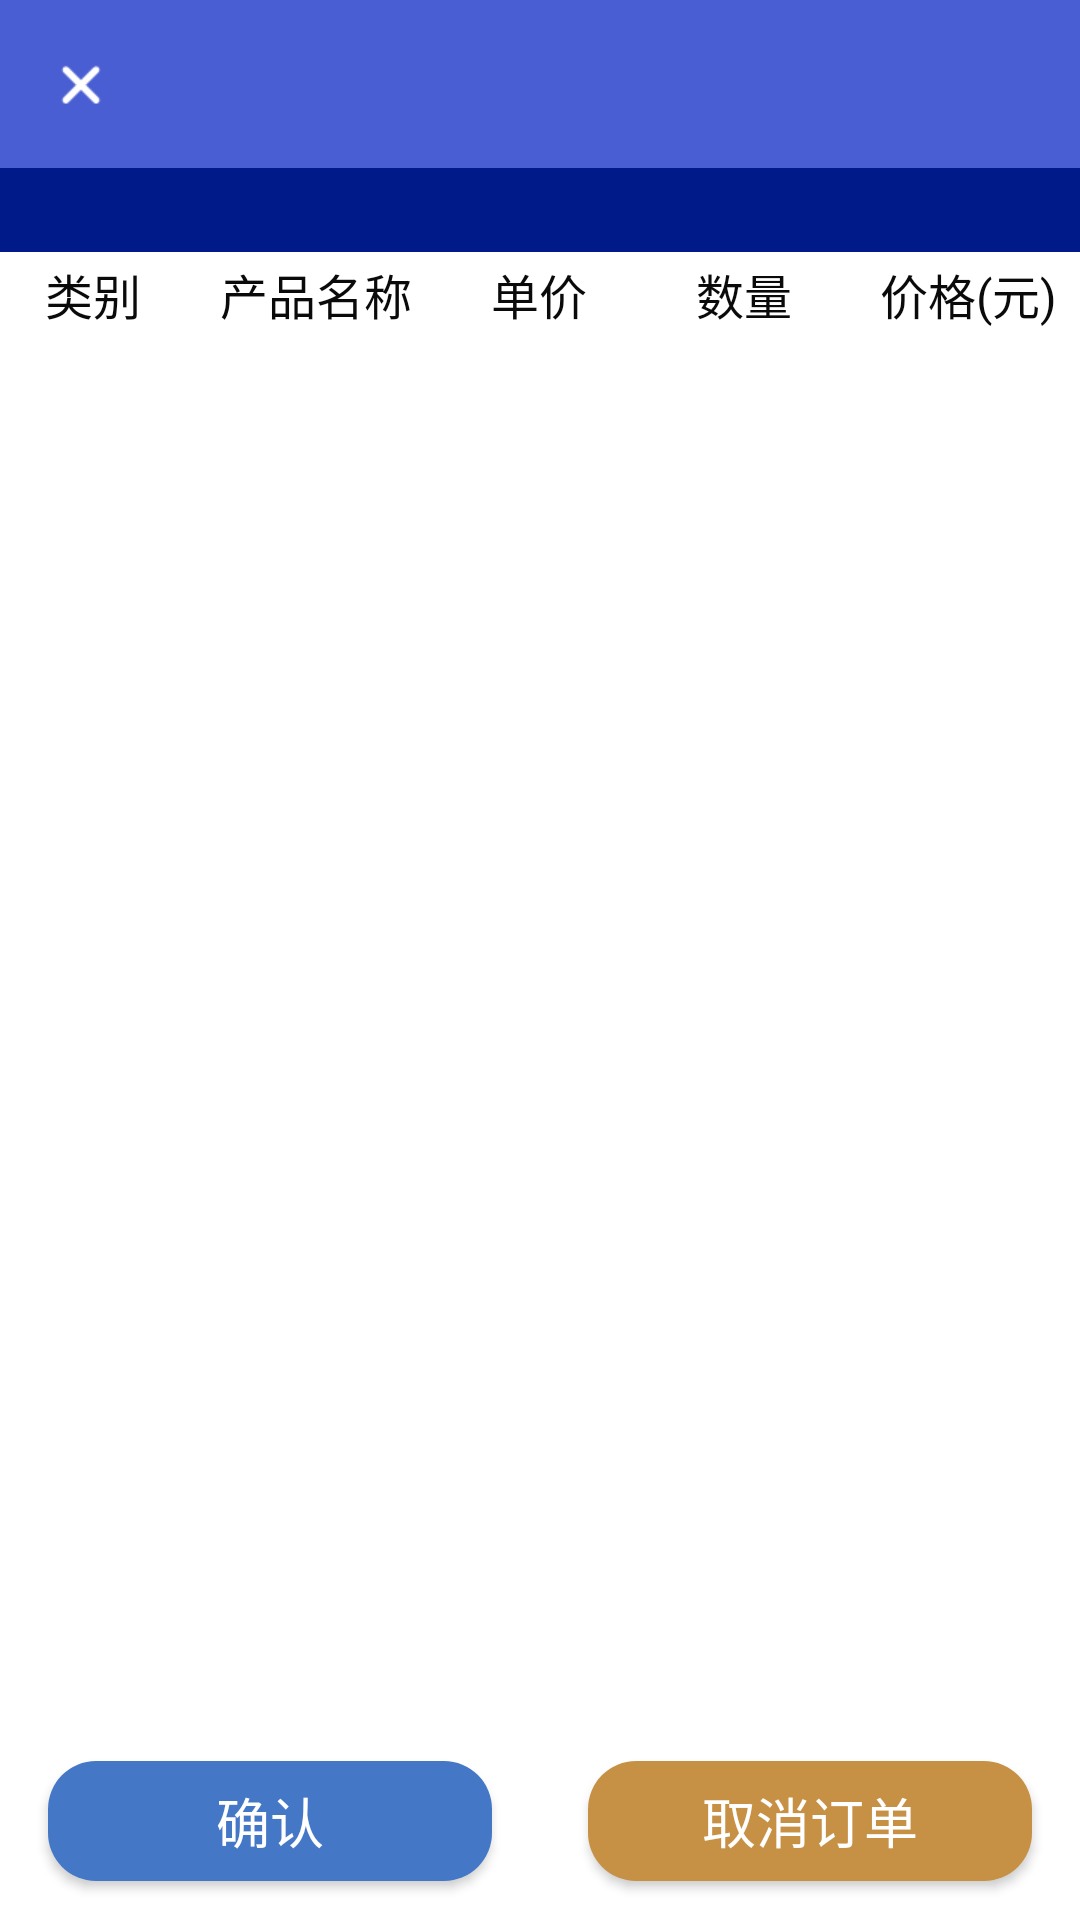

Named icons in this screenshot (1080 x 1920) and their bounding boxes, (x1,y1,x2,y2):
cancel: (62,66,100,104)
